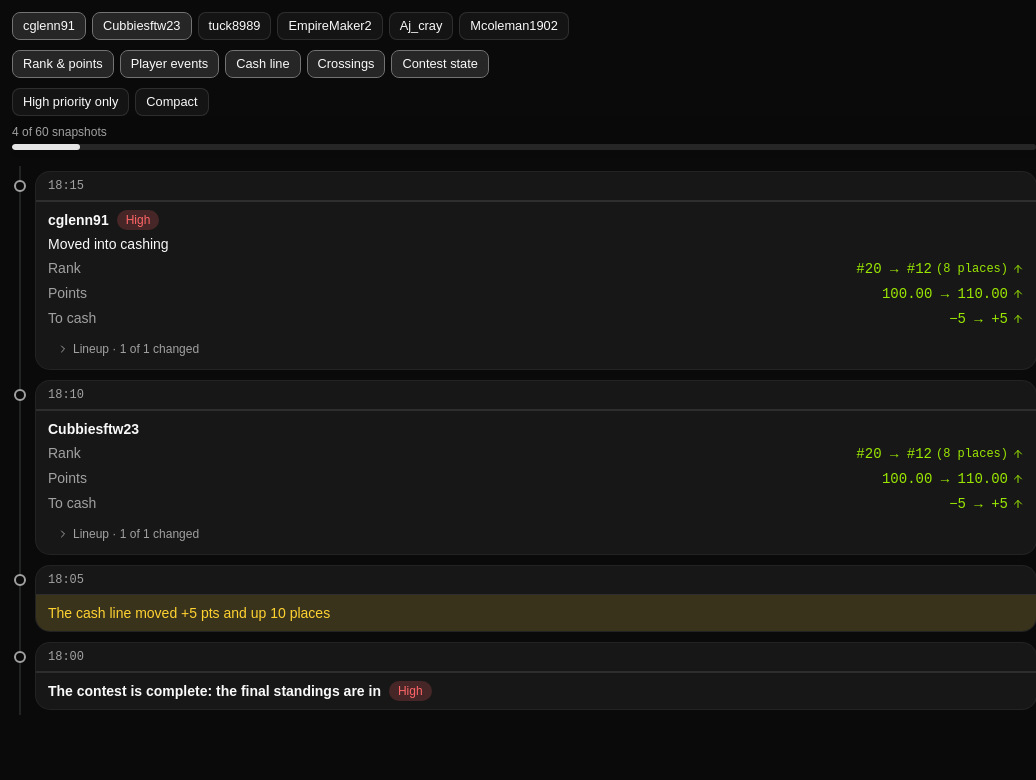
Test case: kind filter on the rail › lets the kind filter hide Contest state
Click the button "Contest state": [440, 64] box [392,50,489,78]
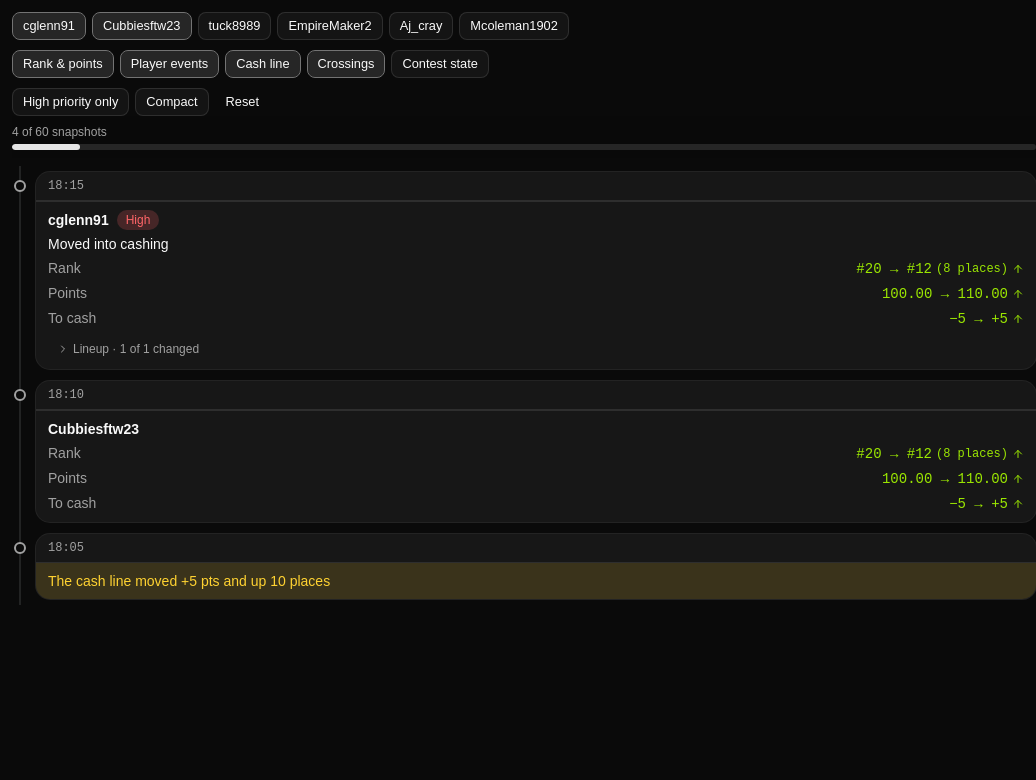
Expected: the text "The contest is complete" is gone
